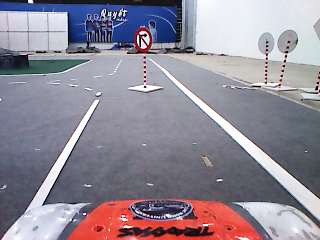ban: (133, 27, 153, 52)
